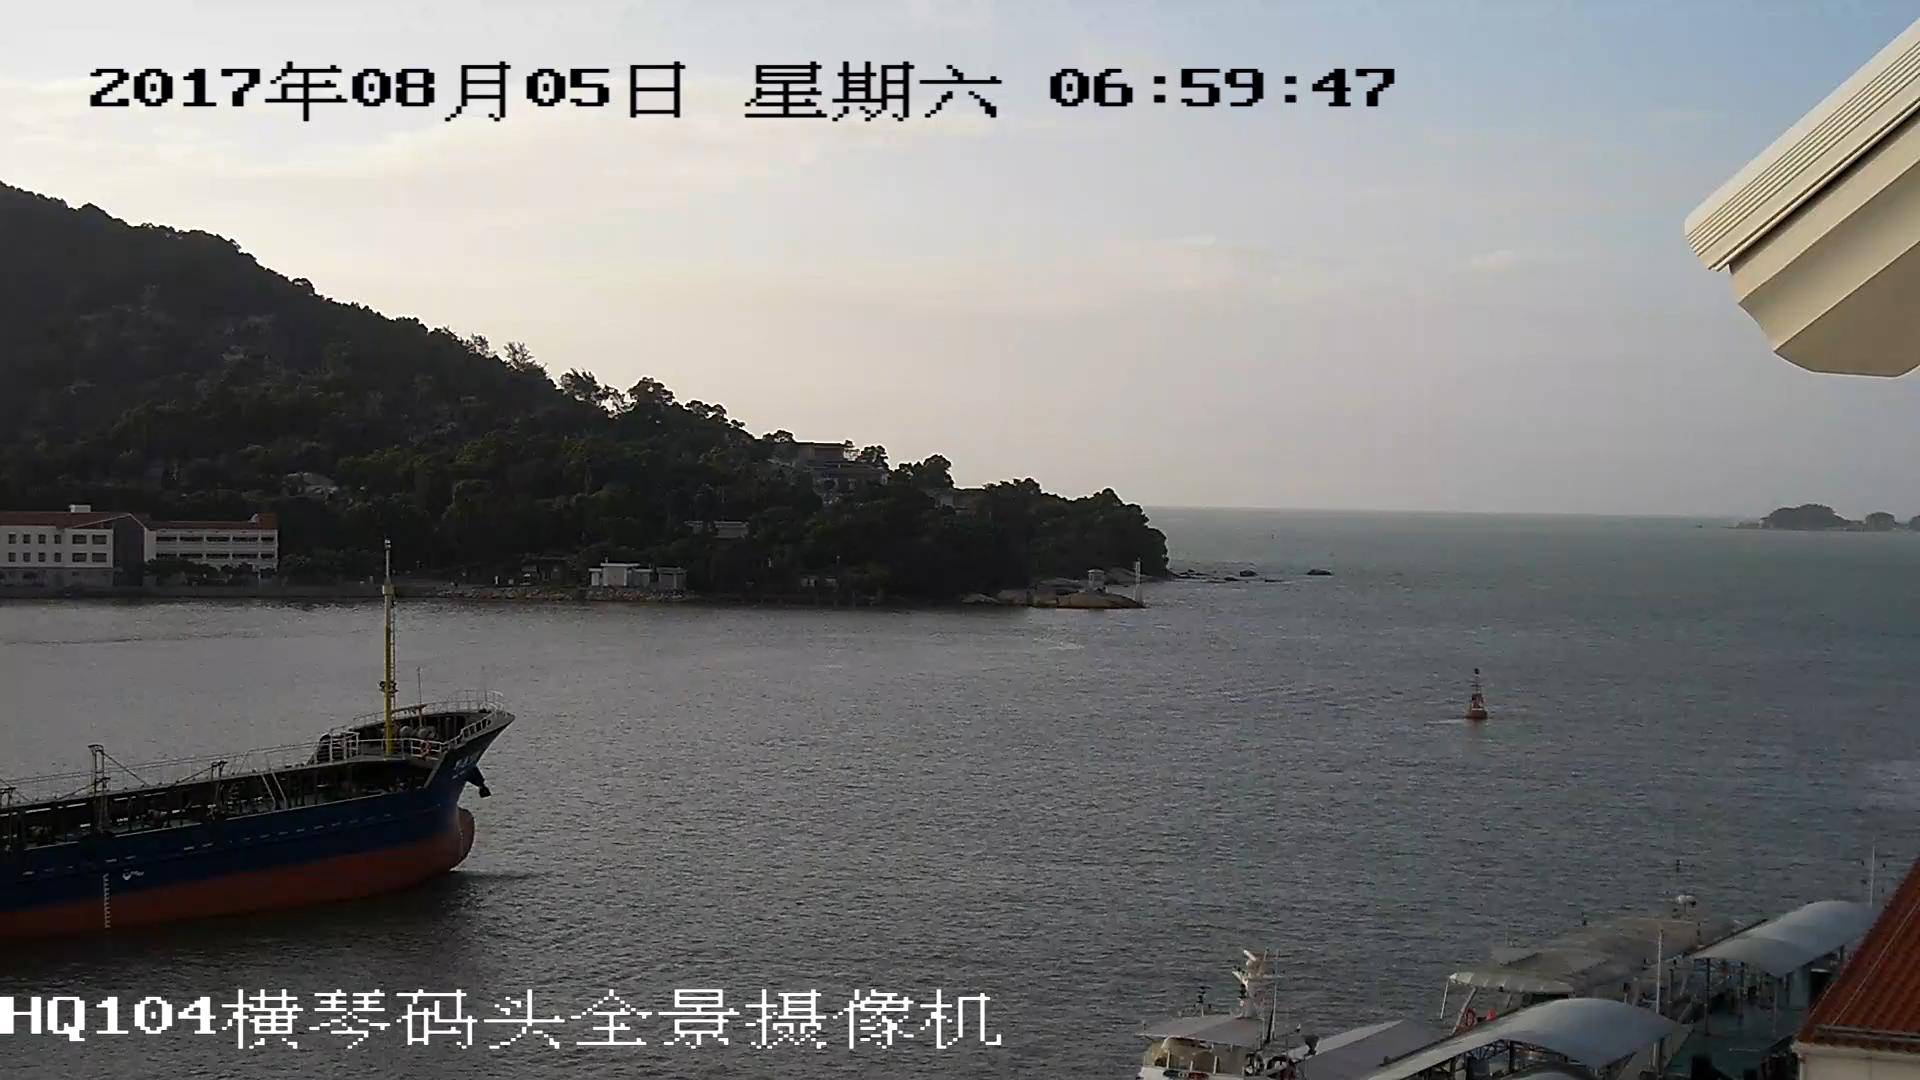general cargo ship: (1, 542, 506, 953)
